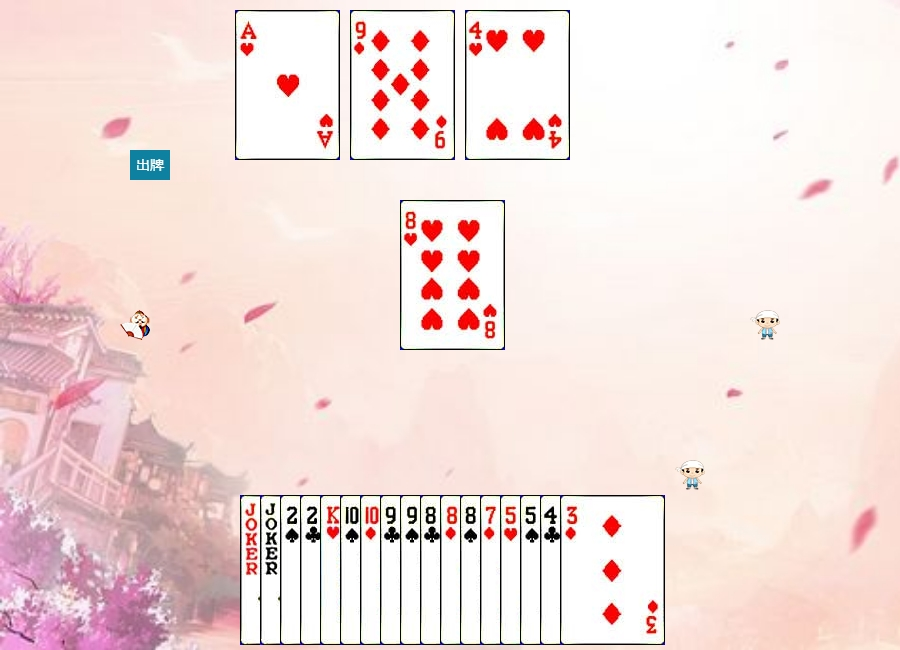10~1: (360, 495, 465, 645)
10~4: (340, 495, 445, 645)
13~3: (320, 495, 425, 645)
14~3: (235, 10, 340, 160)
15~2: (300, 495, 405, 645)
15~4: (280, 495, 385, 645)
17~3: (260, 495, 365, 645)
18~4: (240, 495, 345, 645)
3~1: (560, 495, 665, 645)
4~2: (540, 495, 645, 645)
4~3: (465, 10, 570, 160)
5~3: (500, 495, 605, 645)
5~4: (520, 495, 625, 645)
7~1: (480, 495, 585, 645)
8~1: (440, 495, 545, 645)
8~2: (420, 495, 525, 645)
8~3: (400, 200, 505, 350)
8~4: (460, 495, 565, 645)
9~1: (350, 10, 455, 160)
9~2: (380, 495, 485, 645)
9~4: (400, 495, 505, 645)
